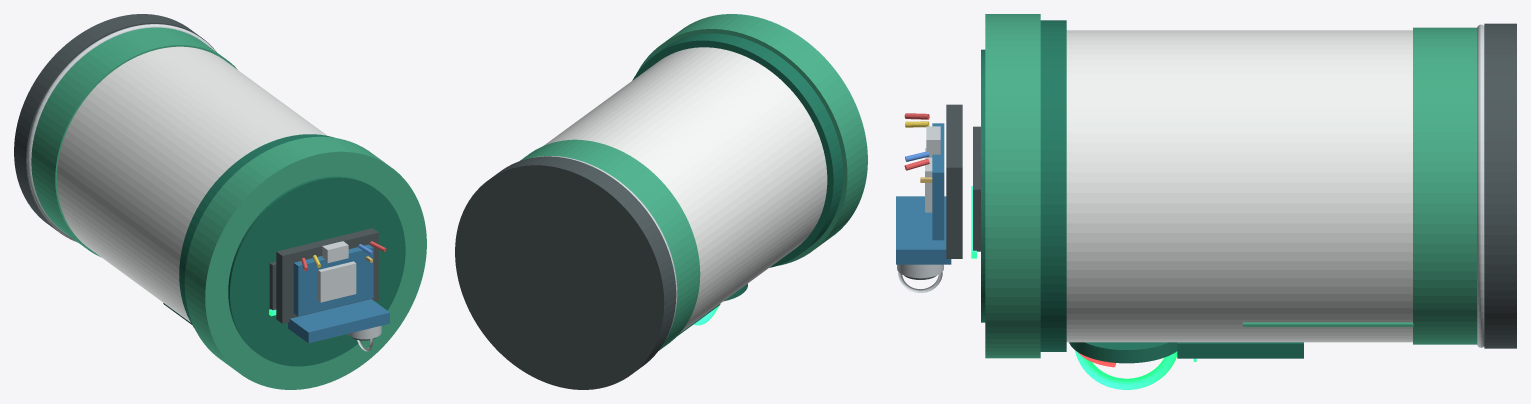
File: smart_city_iot_dustbin.glb
3 renders of one model, left to right at view 1: azimuth 30°, elevation 25°; view 2: azimuth 150°, elevation 25°; view 3: azimuth 270°, elevation 25°, orthographic. The views are drawn at different scales.
Parts seen in each view (by area): view 1: Main white cylindrical shell, Emerald lid, Lid top inset, Lower emerald wrap, Bottom dark plinth, ESP32 PCB, Electronics mounting plate, HC-SR04 sensor board, Lid lower collar, Base trim ring, ESP32 silver shield, USB connector (+1 smaller); view 2: Bottom dark plinth, Main white cylindrical shell, Emerald lid, Lower emerald wrap, Lid lower collar, Base trim ring; view 3: Main white cylindrical shell, Lower emerald wrap, Emerald lid, Bottom dark plinth, Lid lower collar, HC-SR04 sensor board, Electronics mounting plate, Base trim ring, Front QR scanner housing, Status bezel backing, Lid top inset, Status ring green (+4 smaller).
Part boxes in pixels (x1=…): Main white cylindrical shell: x1=57, y1=46, x2=327, y2=322; Emerald lid: x1=184, y1=136, x2=426, y2=389; Lid top inset: x1=228, y1=176, x2=405, y2=366; Lower emerald wrap: x1=31, y1=27, x2=237, y2=256; Bottom dark plinth: x1=14, y1=14, x2=216, y2=242; ESP32 PCB: x1=293, y1=244, x2=373, y2=316; Electronics mounting plate: x1=276, y1=228, x2=378, y2=323; HC-SR04 sensor board: x1=288, y1=299, x2=389, y2=343; Lid lower collar: x1=179, y1=134, x2=334, y2=328; Base trim ring: x1=27, y1=24, x2=215, y2=241; ESP32 silver shield: x1=318, y1=261, x2=356, y2=302; USB connector: x1=322, y1=241, x2=348, y2=263; Bottom dark plinth: x1=455, y1=156, x2=676, y2=389; Main white cylindrical shell: x1=543, y1=47, x2=827, y2=332; Emerald lid: x1=636, y1=14, x2=867, y2=265; Lower emerald wrap: x1=520, y1=139, x2=700, y2=350; Lid lower collar: x1=632, y1=33, x2=843, y2=267; Base trim ring: x1=533, y1=156, x2=677, y2=340; Main white cylindrical shell: x1=1066, y1=30, x2=1412, y2=342; Lower emerald wrap: x1=1413, y1=27, x2=1477, y2=344; Emerald lid: x1=985, y1=14, x2=1040, y2=358; Bottom dark plinth: x1=1484, y1=23, x2=1516, y2=348; Lid lower collar: x1=1040, y1=20, x2=1066, y2=351; HC-SR04 sensor board: x1=896, y1=196, x2=951, y2=264; Electronics mounting plate: x1=946, y1=104, x2=962, y2=258; Base trim ring: x1=1477, y1=24, x2=1484, y2=347; Front QR scanner housing: x1=1177, y1=342, x2=1303, y2=358; Status bezel backing: x1=1069, y1=342, x2=1177, y2=363; Lid top inset: x1=981, y1=49, x2=985, y2=322; Status ring green: x1=1075, y1=350, x2=1177, y2=389.
Bounding box in the file's own units: 2.12 × 2.44 × 3.82.
